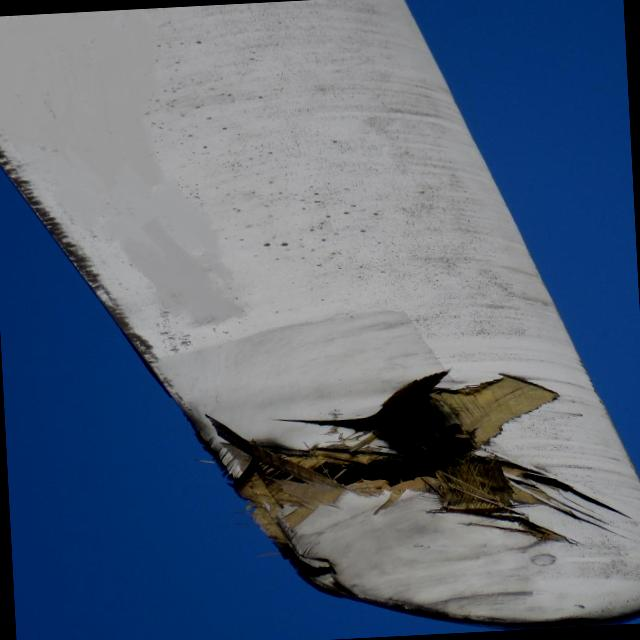crack: (214, 351, 590, 564)
